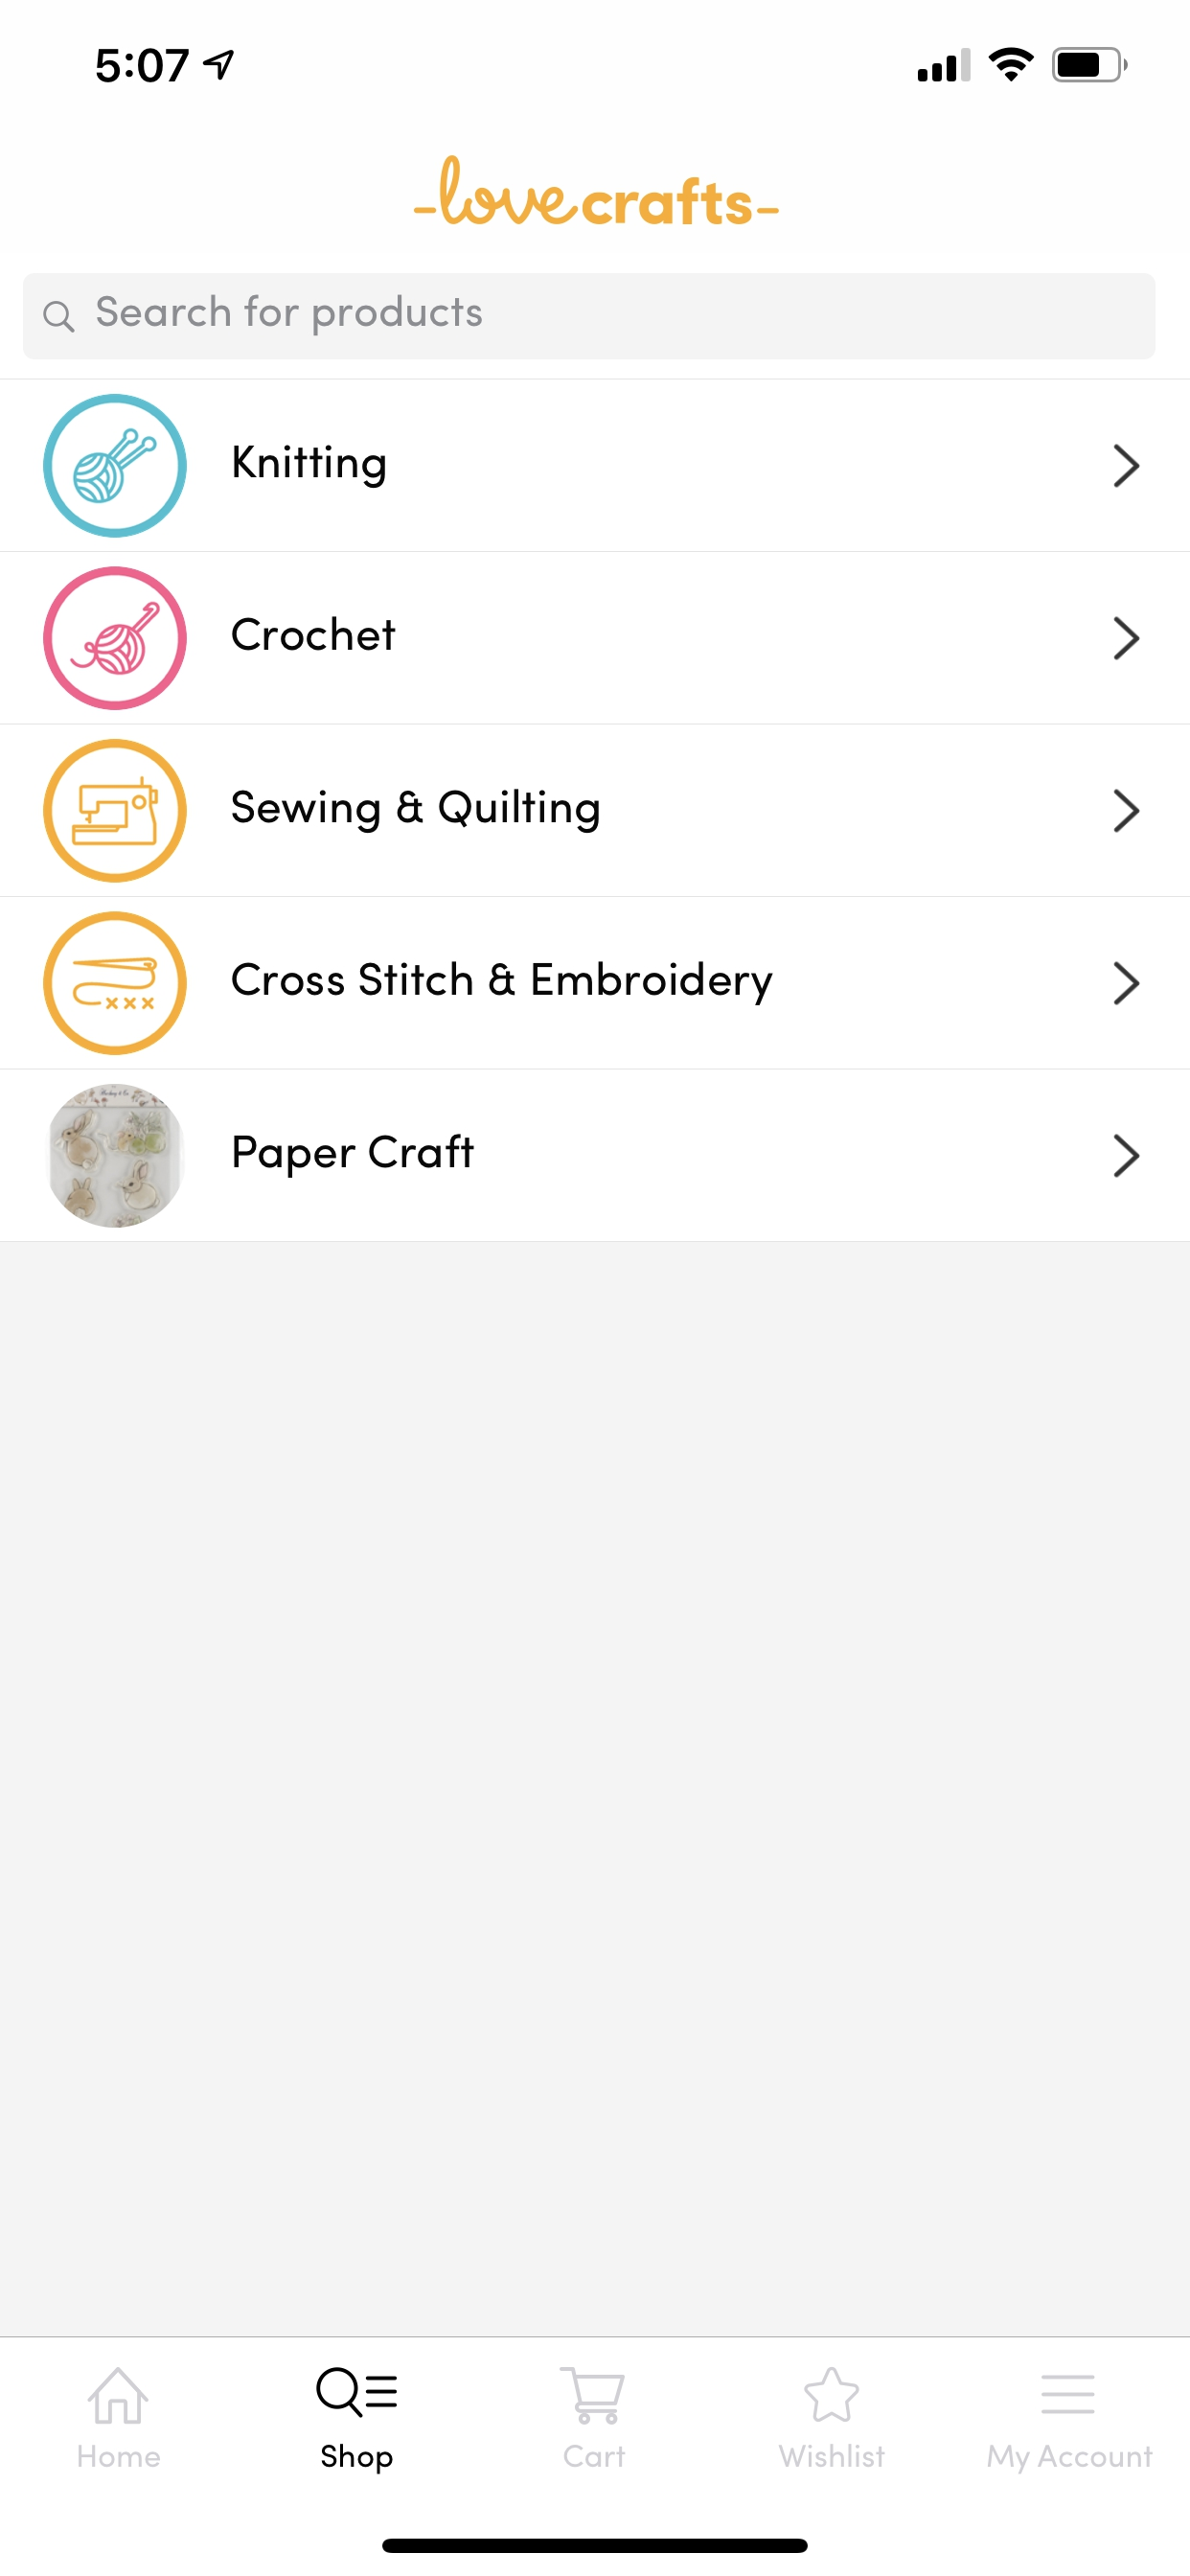EditText: (25, 274, 1155, 360)
Icon: (317, 2367, 398, 2418), (559, 2367, 626, 2425), (89, 2367, 150, 2425), (804, 2367, 860, 2422), (1042, 2376, 1095, 2413), (1113, 1134, 1141, 1180), (1113, 789, 1141, 835), (1113, 961, 1141, 1005), (1113, 445, 1141, 490), (1113, 618, 1141, 660), (44, 302, 76, 333)
Image: (414, 156, 781, 225), (43, 912, 189, 1056), (43, 394, 189, 539), (43, 739, 187, 884), (43, 567, 187, 711), (48, 1084, 187, 1229)
Text: (233, 961, 774, 1005), (233, 789, 600, 835), (97, 296, 483, 337), (235, 1134, 475, 1180), (235, 445, 386, 490), (233, 616, 396, 652), (988, 2445, 1152, 2474), (777, 2445, 886, 2468), (322, 2445, 394, 2474), (79, 2445, 161, 2468), (564, 2445, 626, 2468)
UpperTaskBar: (97, 48, 1128, 84)
